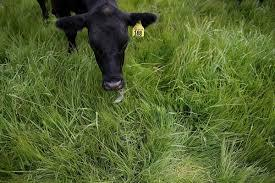cow: (35, 0, 157, 91)
